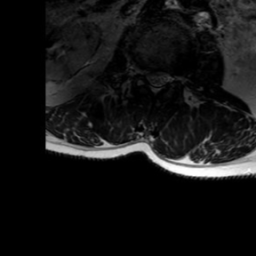CCS_normal: (152, 62, 161, 101)
LFS_stenosis: (170, 64, 179, 90)
LLS_normal: (161, 62, 170, 94)
RFS_stenosis: (133, 54, 143, 82)
RLS_normal: (143, 60, 152, 92)
